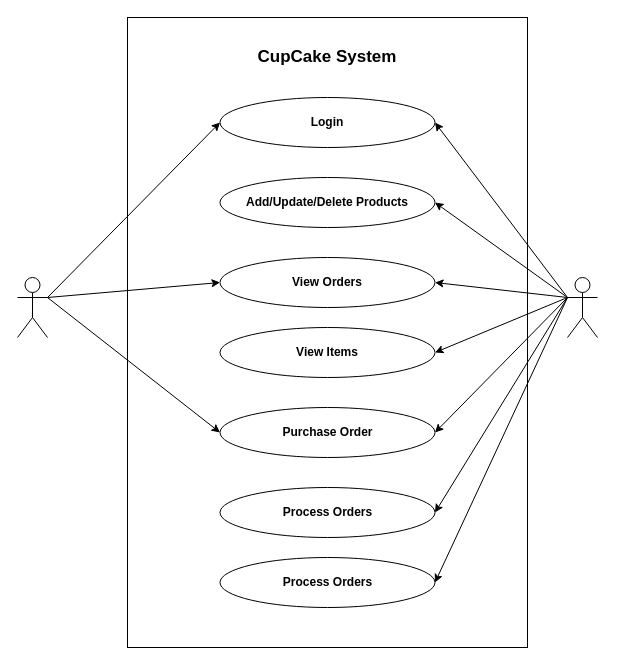
This 617x665 diagram has some shape labels left out. Here are the shapes that lost their labels. From the top down, the box of each, then its label:
(16, 276, 48, 338): User
(566, 276, 598, 338): Admin
